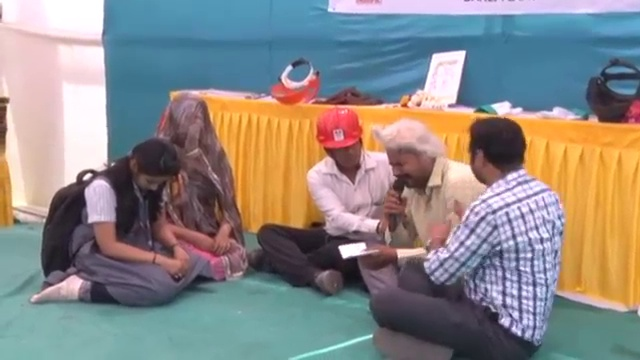helmet: (313, 106, 366, 150)
helmet_off: (463, 119, 533, 192), (378, 121, 445, 194), (121, 138, 181, 198), (162, 99, 215, 159)
helmet_on: (313, 107, 369, 174)
person: (370, 112, 565, 360), (32, 138, 203, 311), (253, 106, 393, 294), (356, 121, 489, 293), (152, 88, 246, 280)
